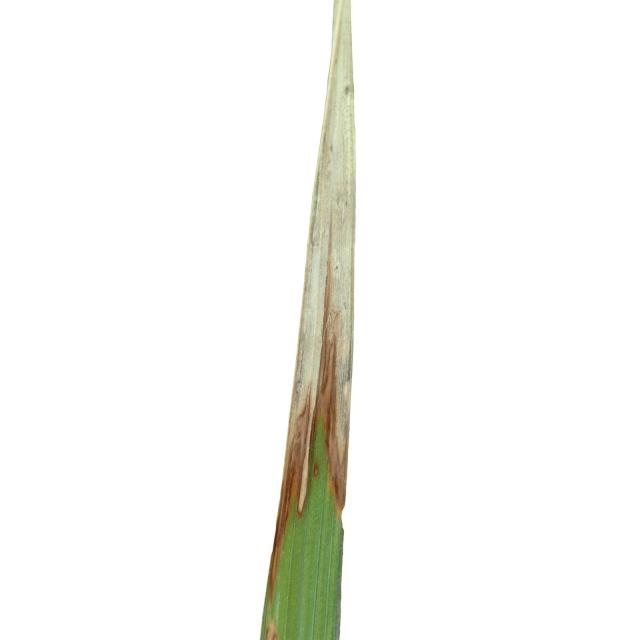Leaf scald: (220, 2, 547, 640)
